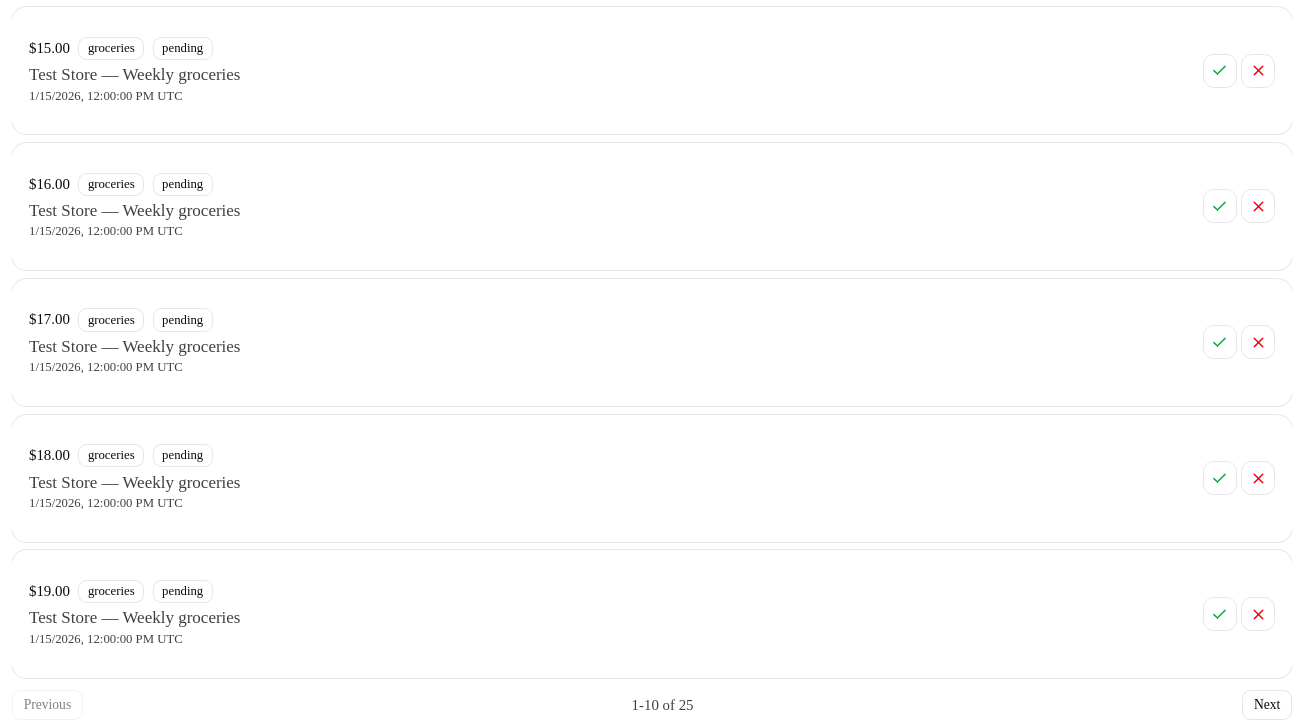
Test: RequestList › pagination controls work
The width and height of the screenshot is (1304, 720).
(page scrolled)
Check: the text "1-10 of 25" is shown, box [632,695,694,716]
Check: the button "Previous" is disabled, box [12,690,83,719]
Click the button "Next".
click(1267, 705)  # box [1242,690,1292,719]
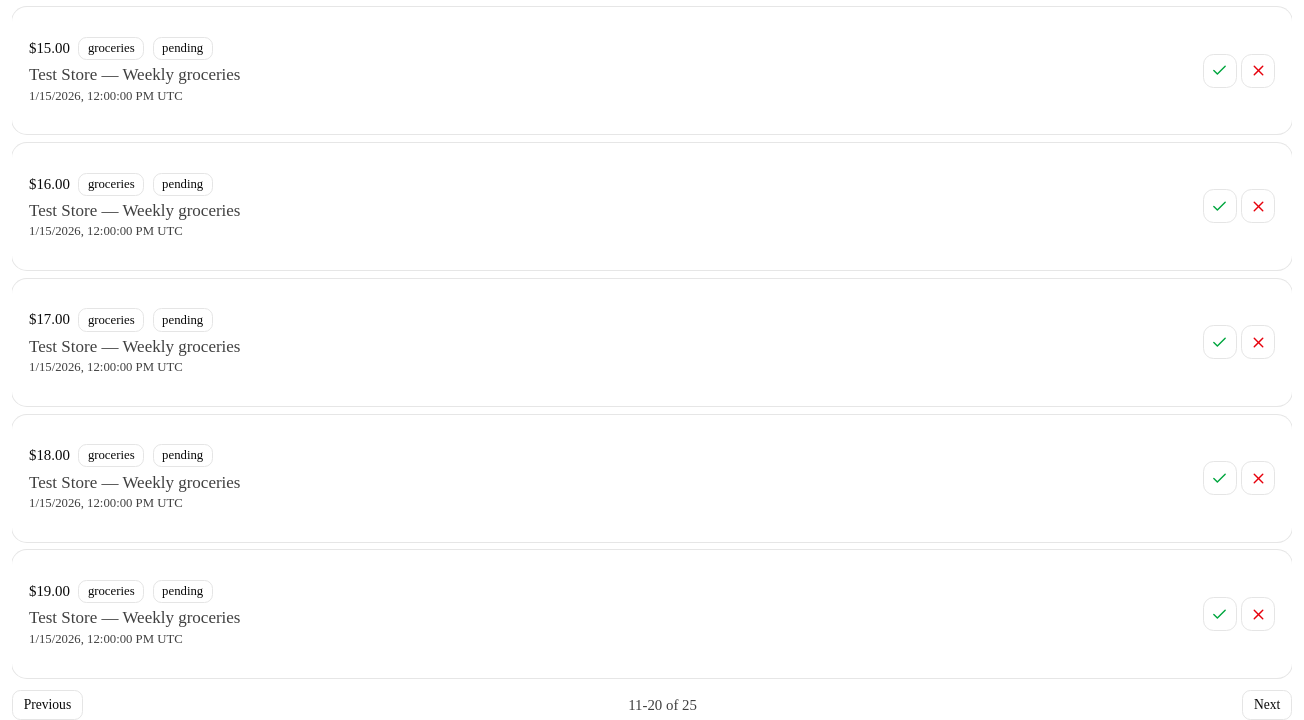
Check: the text "11-20 of 25" is shown, box [628,695,697,716]
